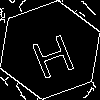H: (25, 25, 78, 80)
